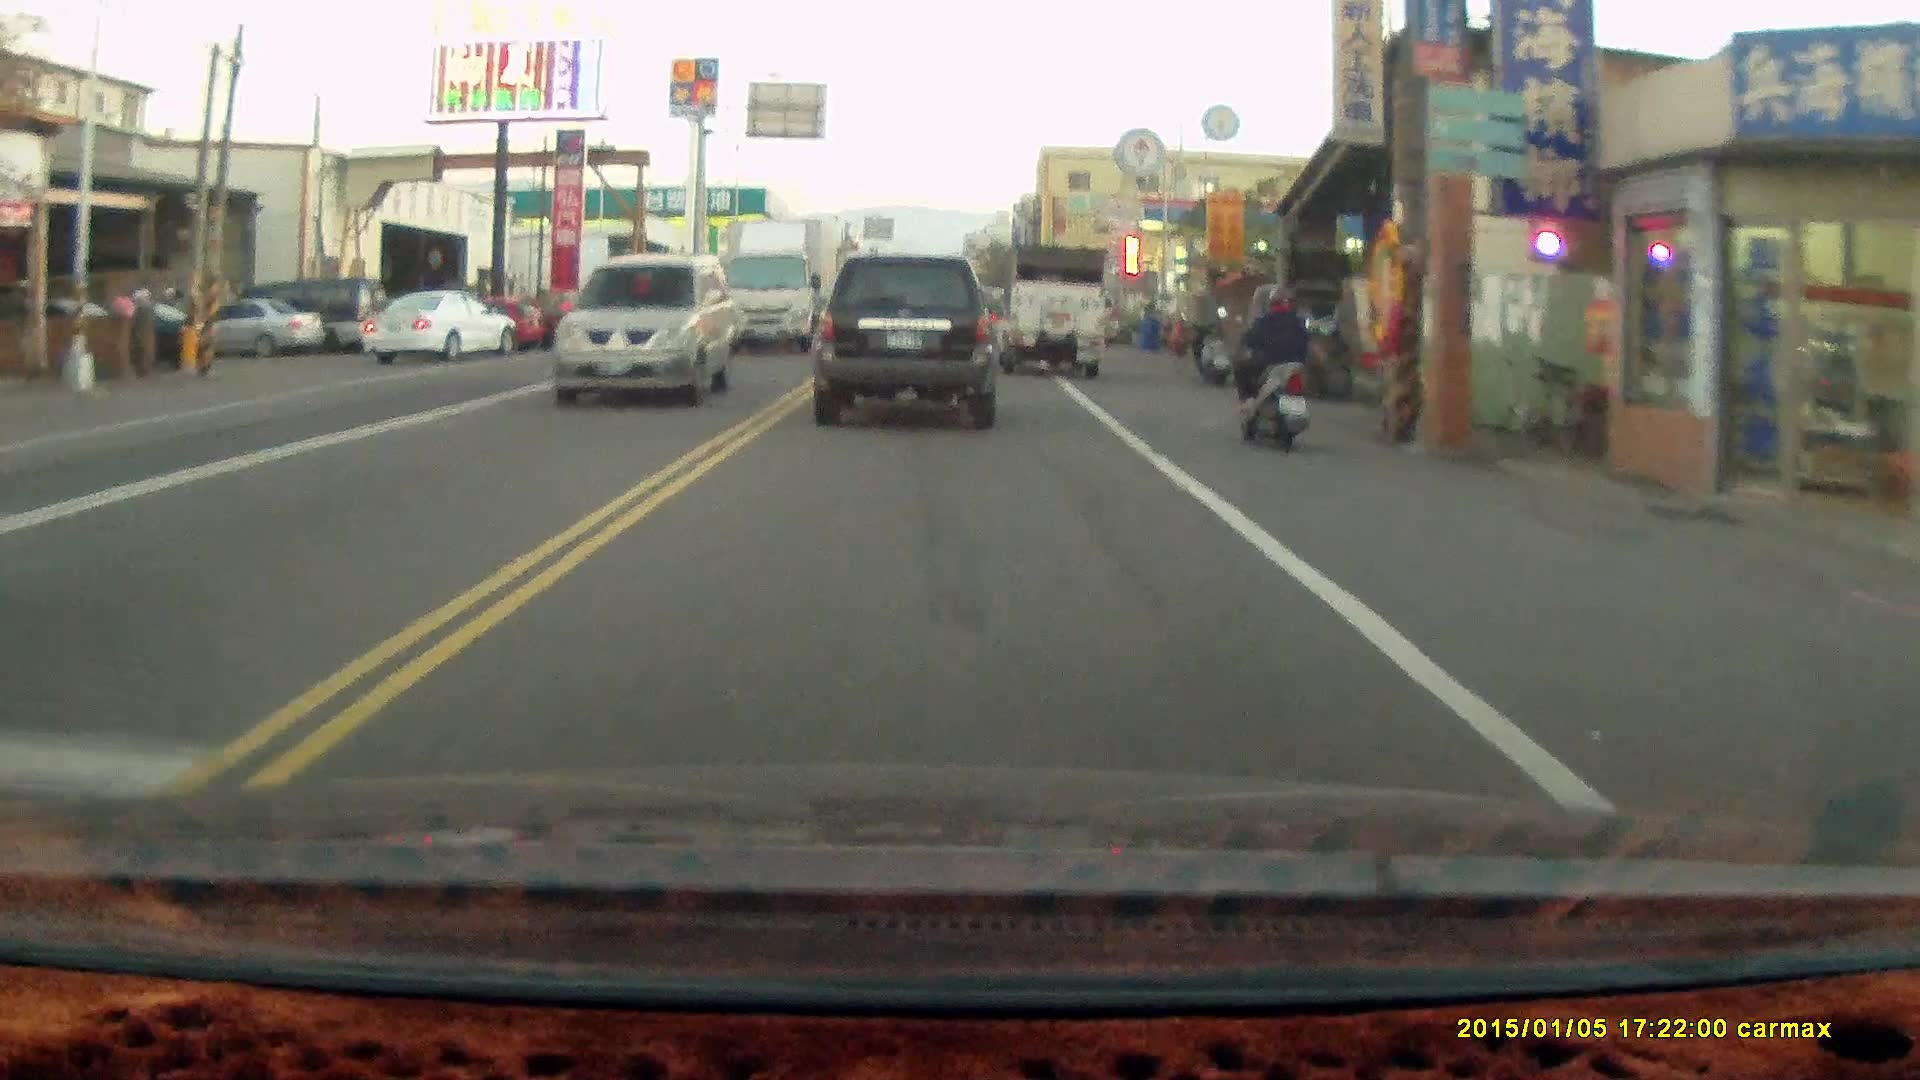rider: (1220, 287, 1314, 457)
vehicle: (811, 254, 998, 431), (554, 261, 735, 413), (993, 244, 1106, 380), (726, 224, 835, 362), (362, 297, 519, 369), (204, 301, 329, 362)
